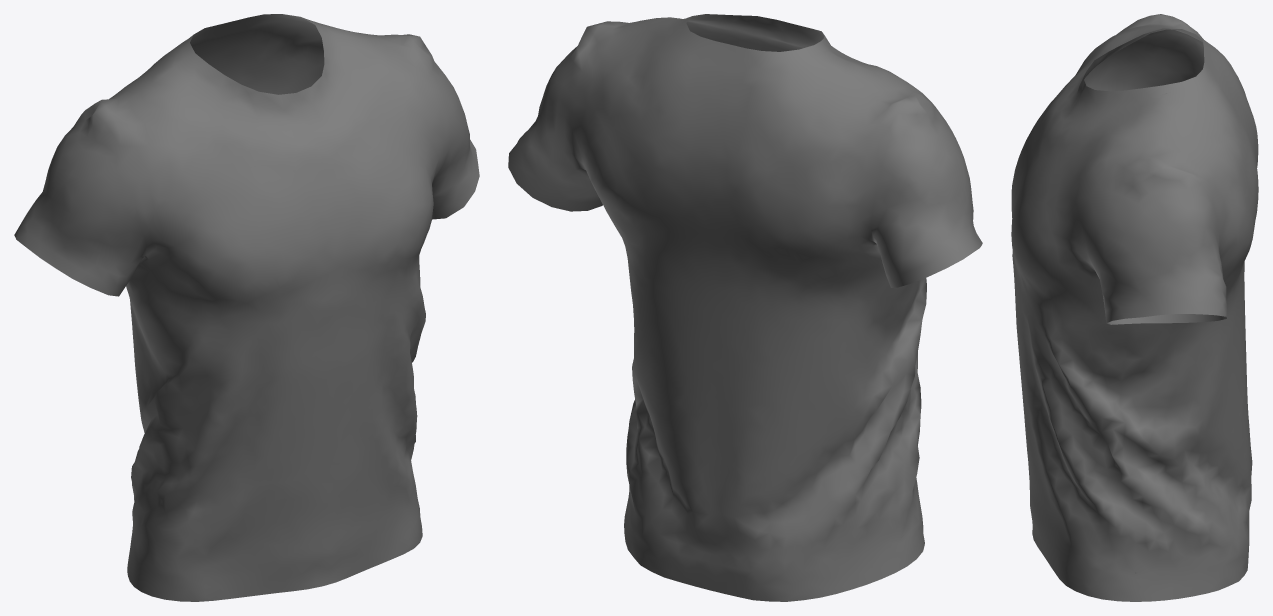
Rendered from basicTshirt.glb.
The picture shows the model from 3 angles, left to right: view 1: azimuth 30°, elevation 25°; view 2: azimuth 150°, elevation 25°; view 3: azimuth 270°, elevation 25°; orthographic projection. The views are drawn at different scales.
Parts seen in each view (by area): view 1: basicTShirt; view 2: basicTShirt; view 3: basicTShirt.
Part boxes in pixels (left/top/right/bottom): basicTShirt: left=14, top=14, right=479, bottom=601; basicTShirt: left=508, top=14, right=982, bottom=601; basicTShirt: left=1011, top=14, right=1258, bottom=601.
Bounding box in the file's own units: 6.11 × 6.81 × 3.07.
Materials: 1 (1 with a texture image).
